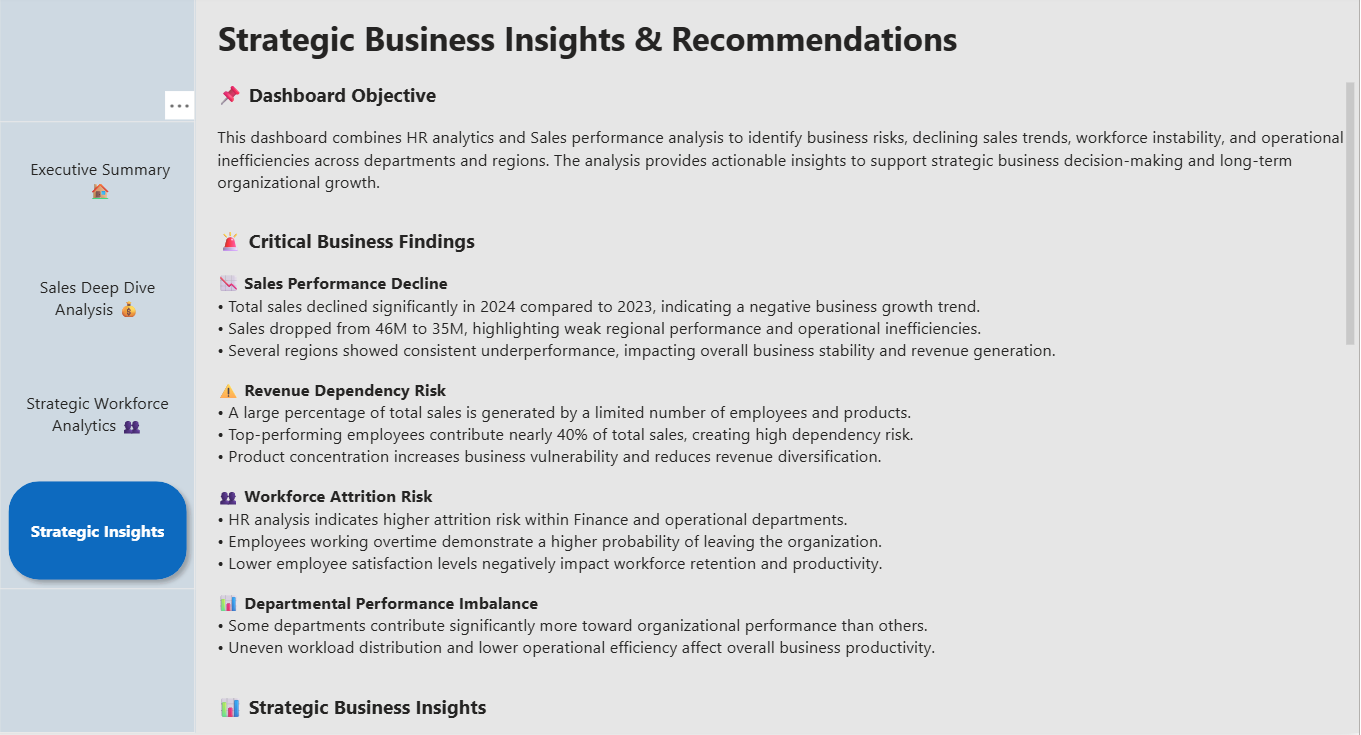

The page's visual inventory and layout, read from the dashboard file:
{"tool":"powerbi","page":{"name":"Strategic Insights","canvas":[1343,720],"ordinal":3},"visuals":[{"type":"group","id":"g1","title":"Group 1","box":[16,0,192,720],"z":0},{"type":"shape","box":[16,0,192,720],"z":0,"group":"g1"},{"type":"textbox","box":[224,16,848,64],"z":1},{"type":"textbox","box":[223,80,1120,640],"z":2},{"type":"pageNavigator","box":[16,122.9,192,456.6],"z":18500,"group":"g1"}]}

Visuals, with their boxes on the page's 1343x720 design canvas (x1, y1, x2, y2). These are canvas units, not pixel positions in the 1361x735 screenshot, which may show the page scaled, cropped or inside an application window:
"Group 1" group: <box>16,0,208,720</box>
shape: <box>16,0,208,720</box>
textbox: <box>224,16,1072,80</box>
textbox: <box>223,80,1343,720</box>
pageNavigator: <box>16,123,208,580</box>
